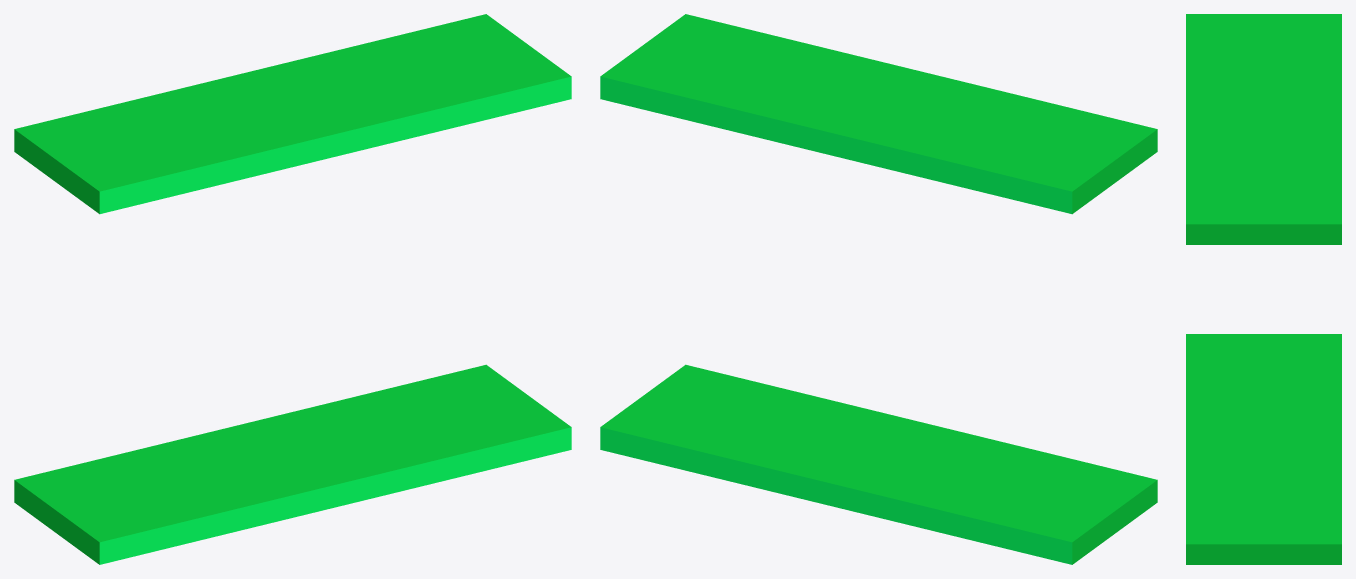
3 views of the same model, side by side, from view 1: azimuth 30°, elevation 25°; view 2: azimuth 150°, elevation 25°; view 3: azimuth 270°, elevation 25° (orthographic). The views are drawn at different scales.
Parts seen in each view (by area): view 1: =_AlphaProta_Green; view 2: =_AlphaProta_Green; view 3: =_AlphaProta_Green.
Part boxes in pixels (x1,y1,x2,y2): =_AlphaProta_Green: (14,14,571,564); =_AlphaProta_Green: (600,14,1157,564); =_AlphaProta_Green: (1186,14,1341,564).
Size of what is drawn, in the model's own units: 0.1436 by 0.1086 by 0.045.
Materials: 2 (2 with a texture image).
